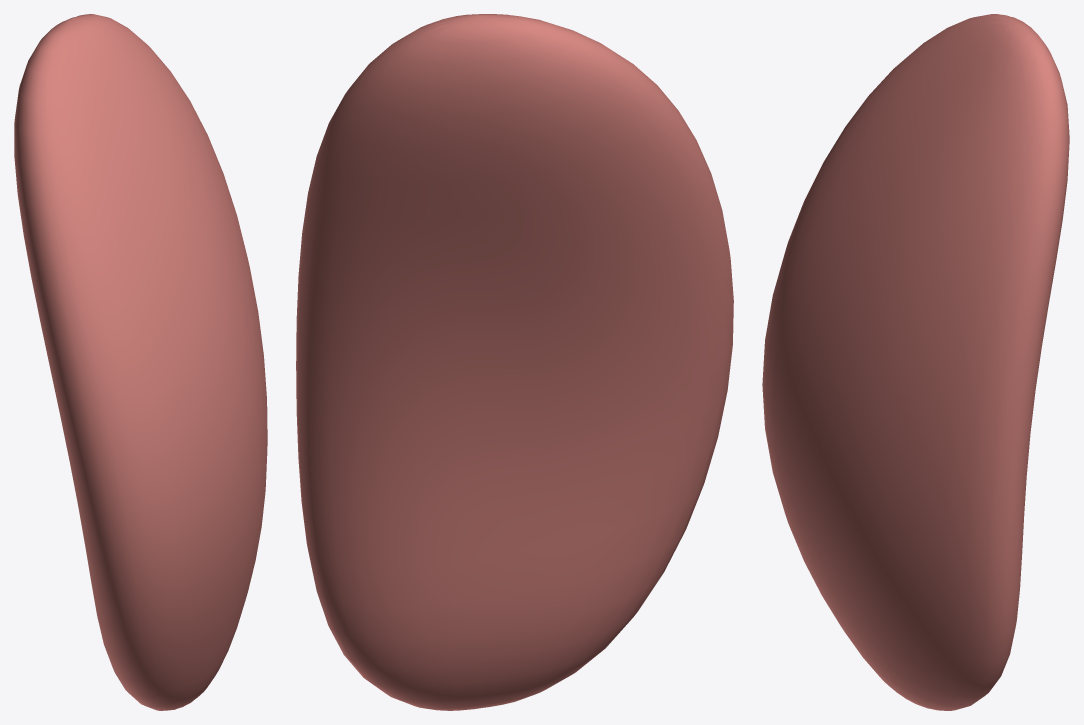
3 views of the same model, side by side, from view 1: azimuth 30°, elevation 25°; view 2: azimuth 150°, elevation 25°; view 3: azimuth 270°, elevation 25° (orthographic). The views are drawn at different scales.
Parts seen in each view (by area): view 1: ZA_26fab3ab3bdb5155; view 2: ZA_26fab3ab3bdb5155; view 3: ZA_26fab3ab3bdb5155.
Boxes of the visible parts, left/top/right/bottom form: ZA_26fab3ab3bdb5155: left=14, top=14, right=267, bottom=710; ZA_26fab3ab3bdb5155: left=296, top=14, right=733, bottom=710; ZA_26fab3ab3bdb5155: left=762, top=14, right=1069, bottom=710.
Bounding box in the file's own units: 0.00691 × 0.0153 × 0.00657.
